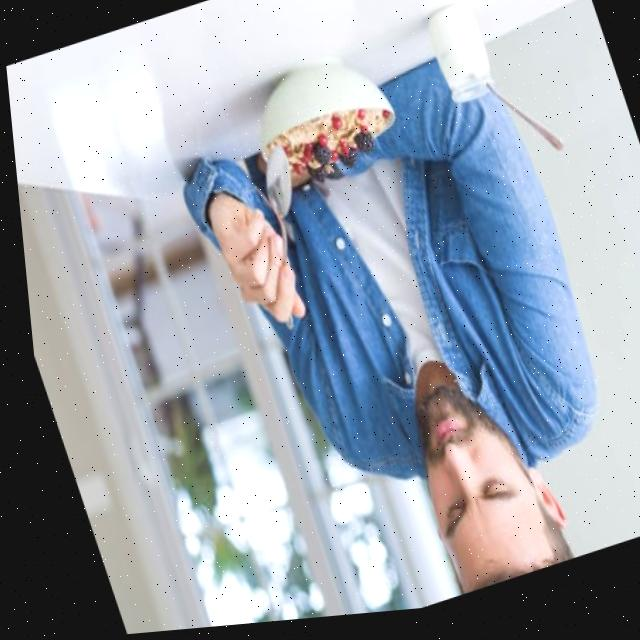eating-person: (136, 0, 640, 631)
